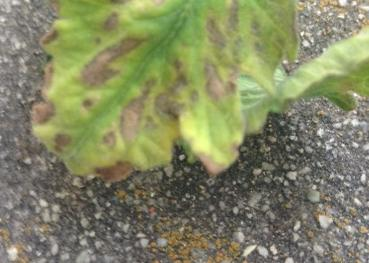Tomato mold leaf: (31, 0, 310, 206)
